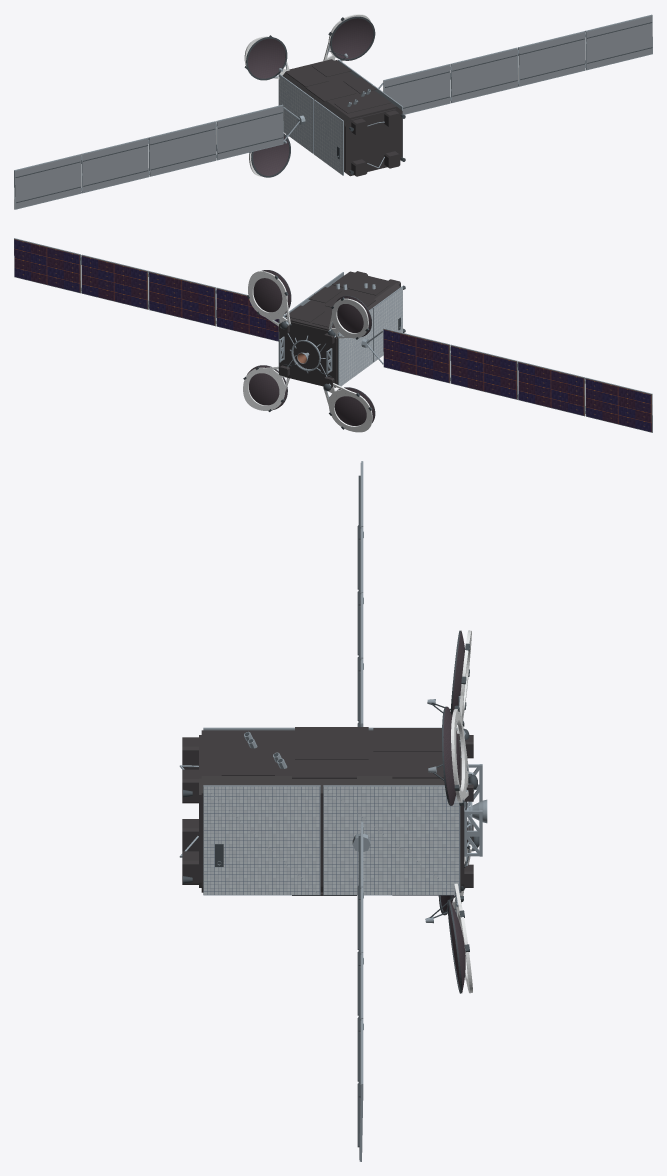
Rendered from horizons-3e.glb.
3 renders of one model, top to bottom at view 1: azimuth 30°, elevation 25°; view 2: azimuth 150°, elevation 25°; view 3: azimuth 270°, elevation 25°, orthographic. The views are drawn at different scales.
Parts seen in each view (by area): view 1: Rear array laminate (×8), Radiator tile mosaic (×2), Earth-facing equipment deck, Overlapping insulation leaf (×4), Reflector 1 carbon aperture, Reflector 2 carbon aperture, Payload module blanket, Reflector 3 carbon aperture, Service module blanket, Reflector 1 rear shell bead, Solar wing perimeter; view 2: Photovoltaic cell strings (×8), Radiator tile mosaic (×2), Aft deck, Solar wing perimeter (×5), Overlapping insulation leaf (×3), Reflector 1 carbon aperture, Reflector 4 carbon aperture, Reflector 3 carbon aperture, Reflector 1 pale perimeter frame, Reflector 3 pale perimeter frame, Reflector 4 pale perimeter frame, Reflector 2 carbon aperture (+3 smaller); view 3: Radiator tile mosaic (×2), Overlapping insulation leaf (×5), Payload module blanket, Service module blanket, Reflector 1 pale perimeter frame.
Boxes of the visible parts, x1=… form: Rear array laminate (×8): x1=15, y1=16, x2=652, y2=208; Radiator tile mosaic (×2): x1=279, y1=75, x2=342, y2=175; Earth-facing equipment deck: x1=345, y1=108, x2=401, y2=173; Overlapping insulation leaf (×4): x1=285, y1=60, x2=391, y2=113; Reflector 1 carbon aperture: x1=330, y1=17, x2=375, y2=60; Reflector 2 carbon aperture: x1=248, y1=38, x2=285, y2=78; Payload module blanket: x1=312, y1=85, x2=402, y2=176; Reflector 3 carbon aperture: x1=251, y1=134, x2=290, y2=177; Service module blanket: x1=282, y1=59, x2=356, y2=96; Reflector 1 rear shell bead: x1=330, y1=16, x2=375, y2=60; Solar wing perimeter: x1=216, y1=104, x2=283, y2=160; Photovoltaic cell strings (×8): x1=14, y1=239, x2=651, y2=431; Radiator tile mosaic (×2): x1=339, y1=287, x2=402, y2=386; Aft deck: x1=279, y1=321, x2=336, y2=385; Solar wing perimeter (×5): x1=14, y1=238, x2=652, y2=432; Overlapping insulation leaf (×3): x1=285, y1=274, x2=389, y2=322; Reflector 1 carbon aperture: x1=253, y1=270, x2=290, y2=313; Reflector 4 carbon aperture: x1=247, y1=365, x2=287, y2=410; Reflector 3 carbon aperture: x1=334, y1=387, x2=374, y2=425; Reflector 1 pale perimeter frame: x1=248, y1=271, x2=290, y2=326; Reflector 3 pale perimeter frame: x1=323, y1=383, x2=372, y2=432; Reflector 4 pale perimeter frame: x1=243, y1=366, x2=289, y2=410; Reflector 2 carbon aperture: x1=336, y1=296, x2=371, y2=336; Radiator tile mosaic (×2): x1=204, y1=786, x2=459, y2=895; Overlapping insulation leaf (×5): x1=221, y1=727, x2=443, y2=778; Payload module blanket: x1=201, y1=730, x2=340, y2=892; Service module blanket: x1=340, y1=730, x2=461, y2=892; Reflector 1 pale perimeter frame: x1=451, y1=709, x2=469, y2=802.
Size of the model in its own units: 34.95 by 7.29 by 7.29.
Materials: 9 (3 with a texture image).
